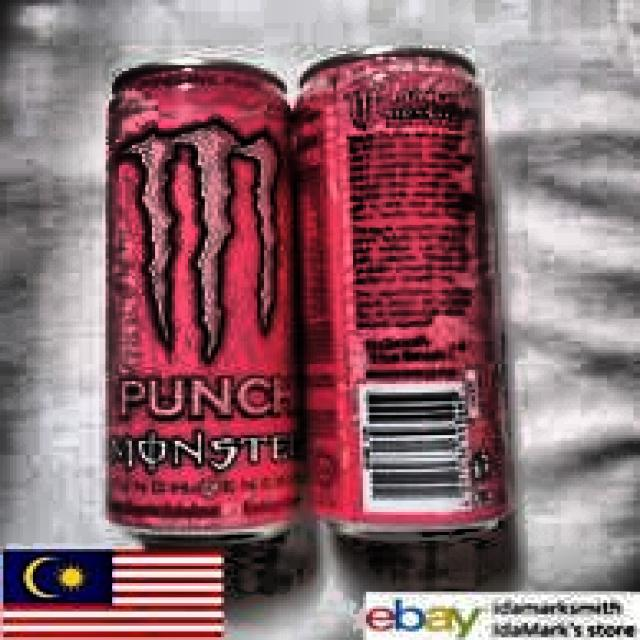Cans: (288, 37, 533, 567), (84, 53, 314, 556)
